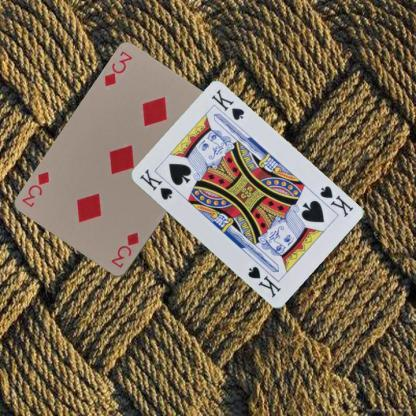3d: (108, 230, 141, 270), (101, 48, 134, 88)
Ks: (136, 166, 174, 201), (316, 184, 354, 218)
